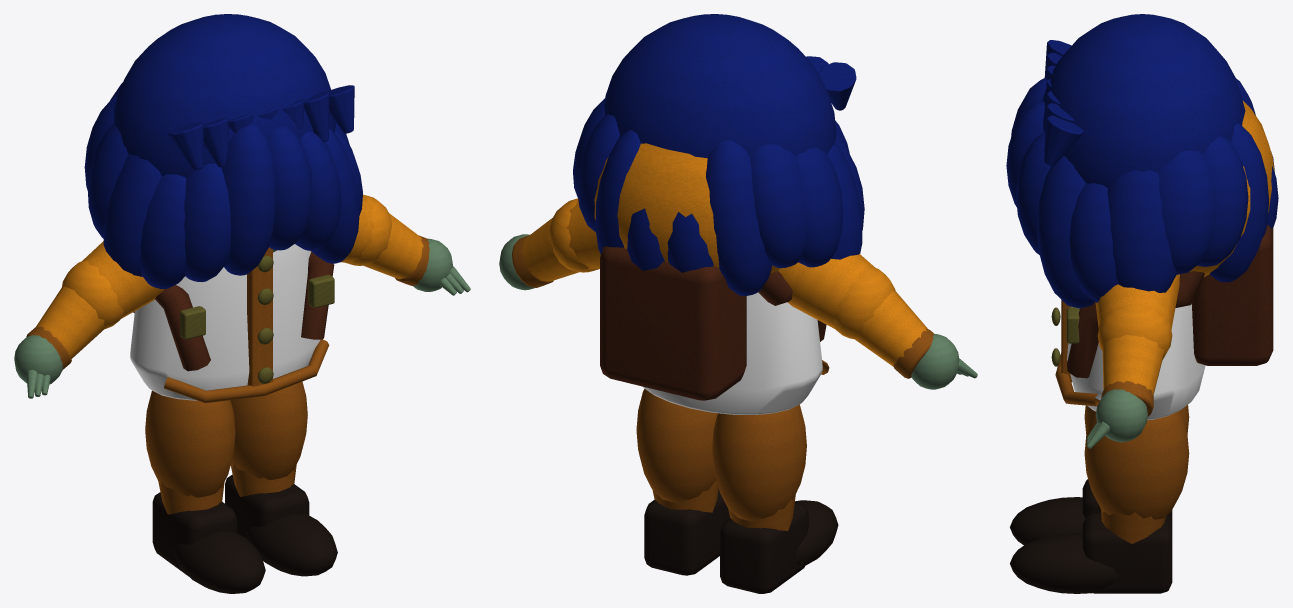
The model's file is 02_CoralineChild.fbx.
3 renders of one model, left to right at view 1: azimuth 30°, elevation 25°; view 2: azimuth 150°, elevation 25°; view 3: azimuth 270°, elevation 25°, orthographic. The views are drawn at different scales.
Visible parts, largest first — view 1: Bob hair cap.001, Thick yellow raincoat shell.001, Mustard trouser thigh L.001, Defined blue bob clump 12.001, Mustard trouser thigh R.001, Defined blue bob clump 11.001, Defined blue bob clump 10.001, Defined blue bob clump 09.001, Boot toe L.001, Defined blue bob clump 13.001, Boot toe R.001, Defined blue bob clump 14.001 (+25 smaller); view 2: Bob hair cap.001, Leather backpack body.001, Thick yellow raincoat shell.001, Mustard trouser thigh L.001, Raincoat hood.001, Mustard trouser thigh R.001, Defined blue bob clump 06.001, Defined blue bob clump 07.001, Dark boot shaft L.001, Dark boot shaft R.001, Defined blue bob clump 08.001, Raincoat sleeve upper L.001 (+20 smaller); view 3: Bob hair cap.001, Mustard trouser thigh R.001, Leather backpack body.001, Defined blue bob clump 00.001, Defined blue bob clump 01.001, Dark boot shaft R.001, Defined blue bob clump 15.001, Boot toe R.001, Thick yellow raincoat shell.001, Defined blue bob clump 16.001, Defined blue bob clump 02.001, Defined blue bob clump 03.001 (+18 smaller).
Part boxes in pixels (box(x1,y1,x2,y2)): Bob hair cap.001: box(114, 14, 335, 178); Thick yellow raincoat shell.001: box(130, 244, 320, 400); Mustard trouser thigh L.001: box(145, 390, 235, 497); Defined blue bob clump 12.001: box(221, 124, 275, 275); Mustard trouser thigh R.001: box(230, 381, 307, 480); Defined blue bob clump 11.001: box(184, 163, 231, 281); Defined blue bob clump 10.001: box(140, 174, 186, 289); Defined blue bob clump 09.001: box(103, 154, 161, 276); Boot toe L.001: box(174, 531, 265, 593); Defined blue bob clump 13.001: box(267, 126, 312, 250); Boot toe R.001: box(246, 514, 337, 576); Defined blue bob clump 14.001: box(295, 131, 341, 250); Bob hair cap.001: box(604, 14, 836, 158); Leather backpack body.001: box(600, 246, 746, 400); Thick yellow raincoat shell.001: box(643, 292, 822, 414); Mustard trouser thigh L.001: box(712, 404, 806, 521); Raincoat hood.001: box(594, 143, 780, 273); Mustard trouser thigh R.001: box(636, 388, 717, 502); Defined blue bob clump 06.001: box(706, 140, 772, 295); Defined blue bob clump 07.001: box(750, 144, 806, 268); Dark boot shaft L.001: box(720, 503, 808, 593); Dark boot shaft R.001: box(644, 488, 729, 575); Defined blue bob clump 08.001: box(796, 147, 843, 267); Raincoat sleeve upper L.001: box(778, 254, 875, 328); Bob hair cap.001: box(1043, 14, 1245, 187); Mustard trouser thigh R.001: box(1084, 411, 1189, 519); Leather backpack body.001: box(1192, 225, 1273, 365); Defined blue bob clump 00.001: box(1107, 170, 1176, 292); Defined blue bob clump 01.001: box(1158, 150, 1215, 274); Dark boot shaft R.001: box(1082, 513, 1172, 593); Defined blue bob clump 15.001: box(1036, 155, 1094, 308); Boot toe R.001: box(1010, 533, 1118, 593); Thick yellow raincoat shell.001: box(1067, 304, 1205, 420); Defined blue bob clump 16.001: box(1069, 183, 1117, 302); Defined blue bob clump 02.001: box(1197, 136, 1248, 266); Defined blue bob clump 03.001: box(1210, 123, 1268, 282).
Size of the model in its own units: 1.41 by 1.61 by 0.7279.
11 materials, 10 textured.
